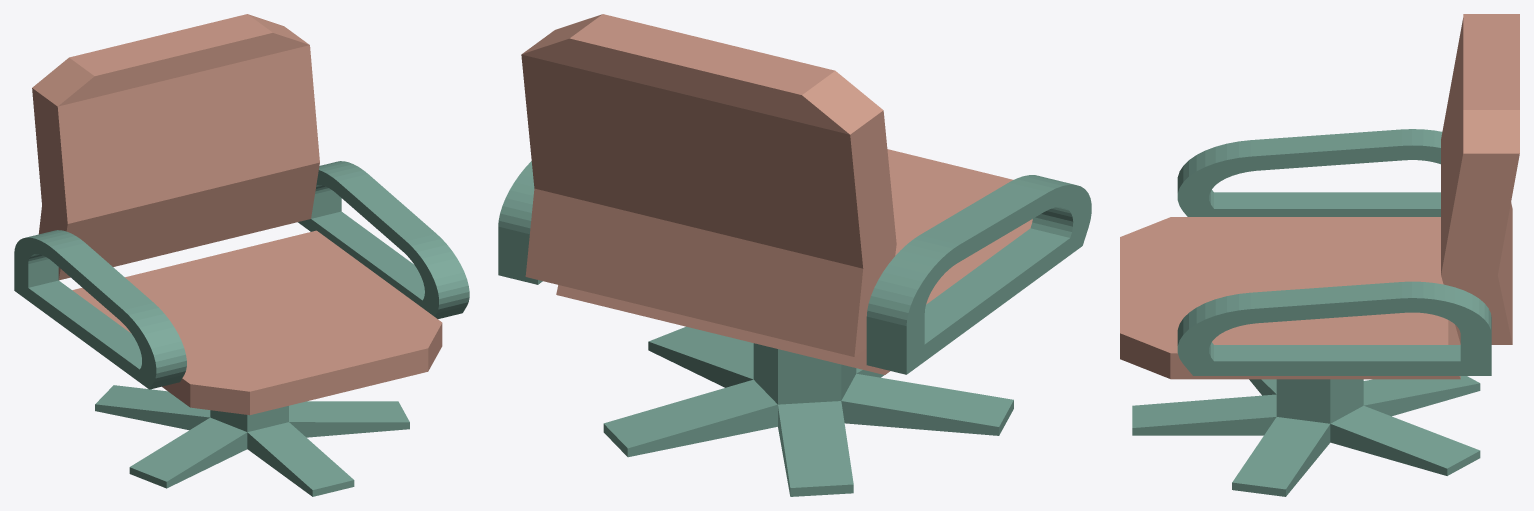
Rendered from chair-desk.glb.
3 views of the same model, side by side, from view 1: azimuth 30°, elevation 25°; view 2: azimuth 150°, elevation 25°; view 3: azimuth 270°, elevation 25° (orthographic). The views are drawn at different scales.
Size of the model in its own units: 1 by 1 by 1.
